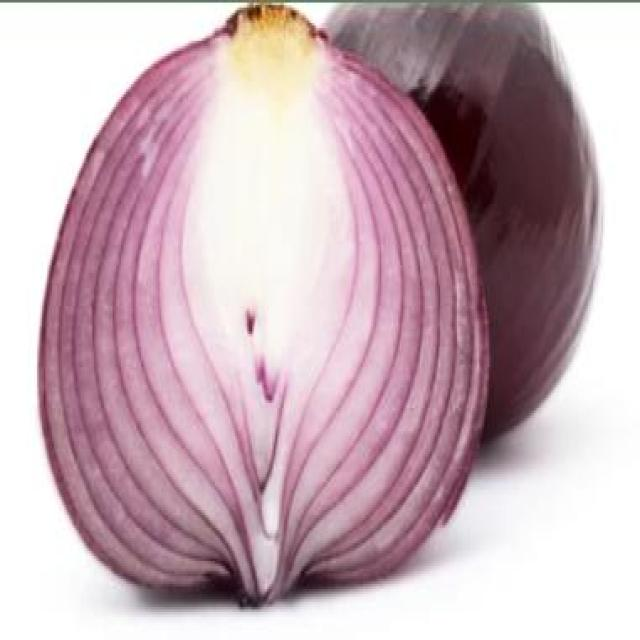Onion: (32, 0, 494, 597)
